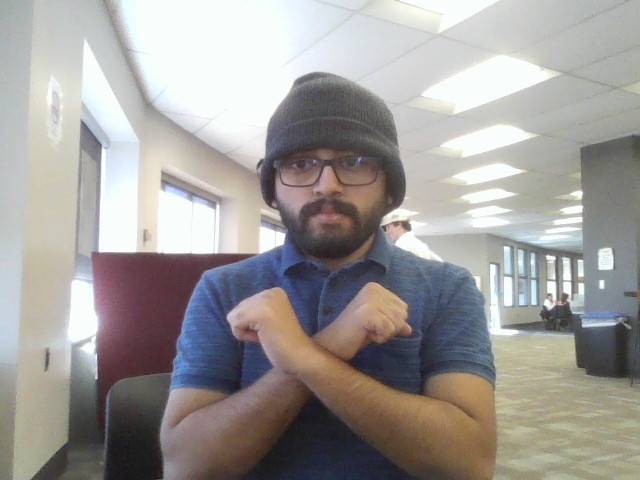cancel: (214, 277, 422, 436)
